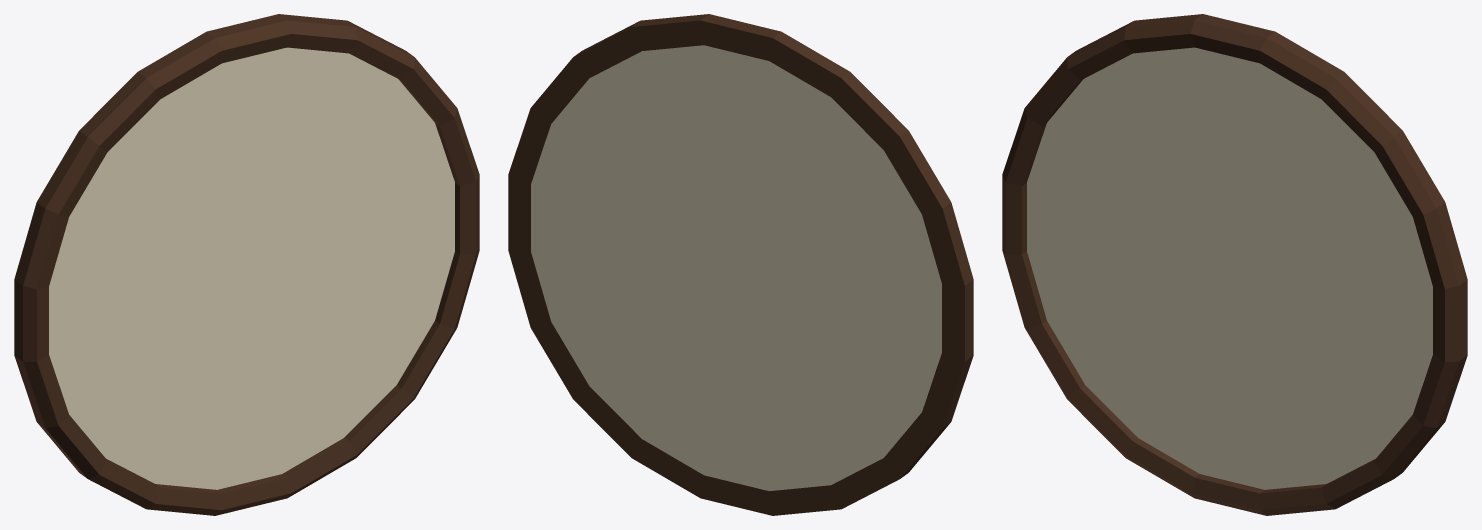
File: rw_emblem.glb
3 views of the same model, side by side, from view 1: azimuth 30°, elevation 25°; view 2: azimuth 150°, elevation 25°; view 3: azimuth 330°, elevation 25° (orthographic).
Visible parts, largest first — view 1: rw_emblem__paper, rw_emblem__wood_dark; view 2: rw_emblem__paper, rw_emblem__wood_dark; view 3: rw_emblem__paper, rw_emblem__wood_dark.
Part boxes in pixels (left/top/right/bottom): rw_emblem__paper: left=49, top=47, right=454, bottom=489; rw_emblem__wood_dark: left=14, top=14, right=479, bottom=515; rw_emblem__paper: left=531, top=45, right=941, bottom=491; rw_emblem__wood_dark: left=508, top=14, right=973, bottom=515; rw_emblem__paper: left=1027, top=47, right=1432, bottom=489; rw_emblem__wood_dark: left=1002, top=14, right=1467, bottom=515.
Bounding box in the file's own units: 30 × 30 × 1.6.
